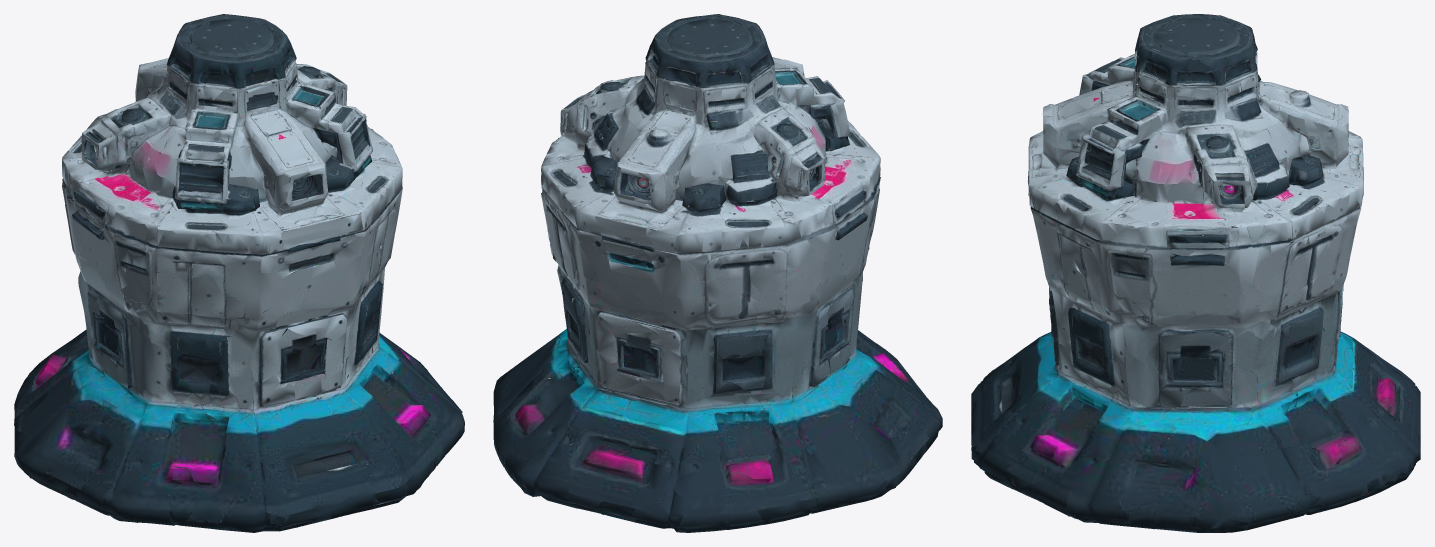
Rendered from guard.glb.
The picture shows the model from 3 angles, left to right: view 1: azimuth 30°, elevation 25°; view 2: azimuth 150°, elevation 25°; view 3: azimuth 270°, elevation 25°; orthographic projection.
Visible parts, largest first — view 1: Mesh_0; view 2: Mesh_0; view 3: Mesh_0.
Part boxes in pixels (x1,y1,x2,y2): Mesh_0: (14,14,464,532); Mesh_0: (493,14,942,532); Mesh_0: (971,14,1420,532).
Bounding box in the file's own units: 1.9 × 1.83 × 1.84.
1 material, 1 textured.
